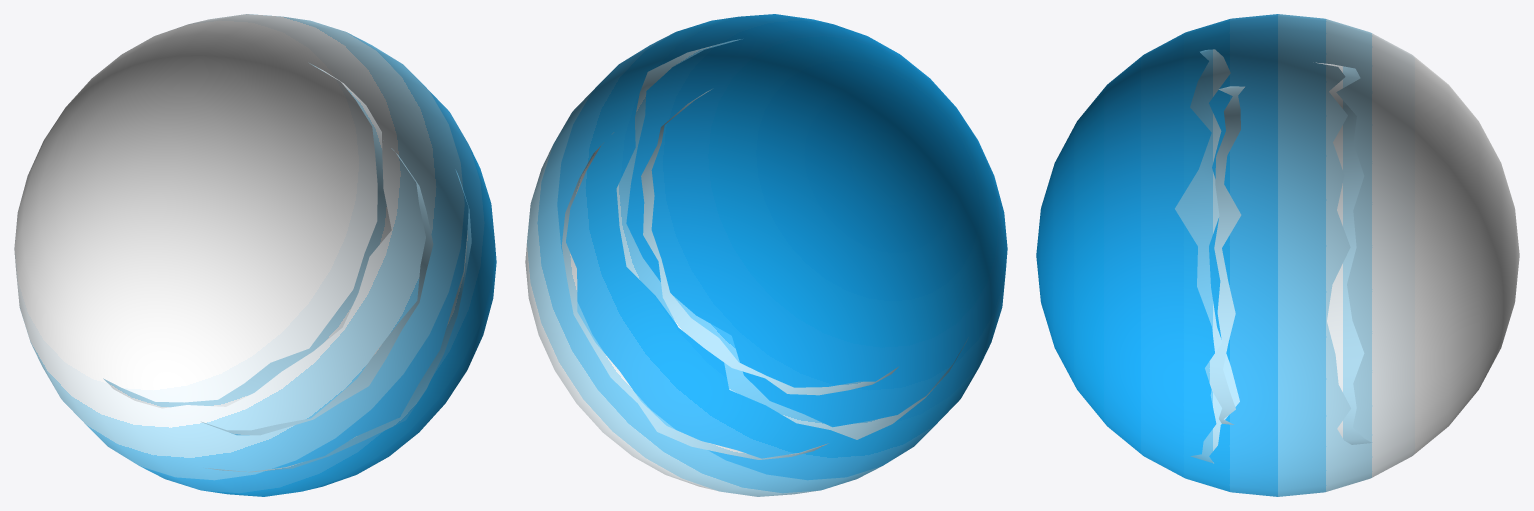
File: background-snow.glb
3 views of the same model, side by side, from view 1: azimuth 30°, elevation 25°; view 2: azimuth 150°, elevation 25°; view 3: azimuth 270°, elevation 25° (orthographic).
Parts seen in each view (by area): view 1: background-snow; view 2: background-snow; view 3: background-snow.
Boxes of the visible parts, box(x1,y1,x2,y2) form: background-snow: box(14, 14, 496, 496); background-snow: box(525, 14, 1007, 496); background-snow: box(1036, 14, 1519, 496).
Size of the model in its own units: 1 by 1 by 1.
1 material, 1 textured.
